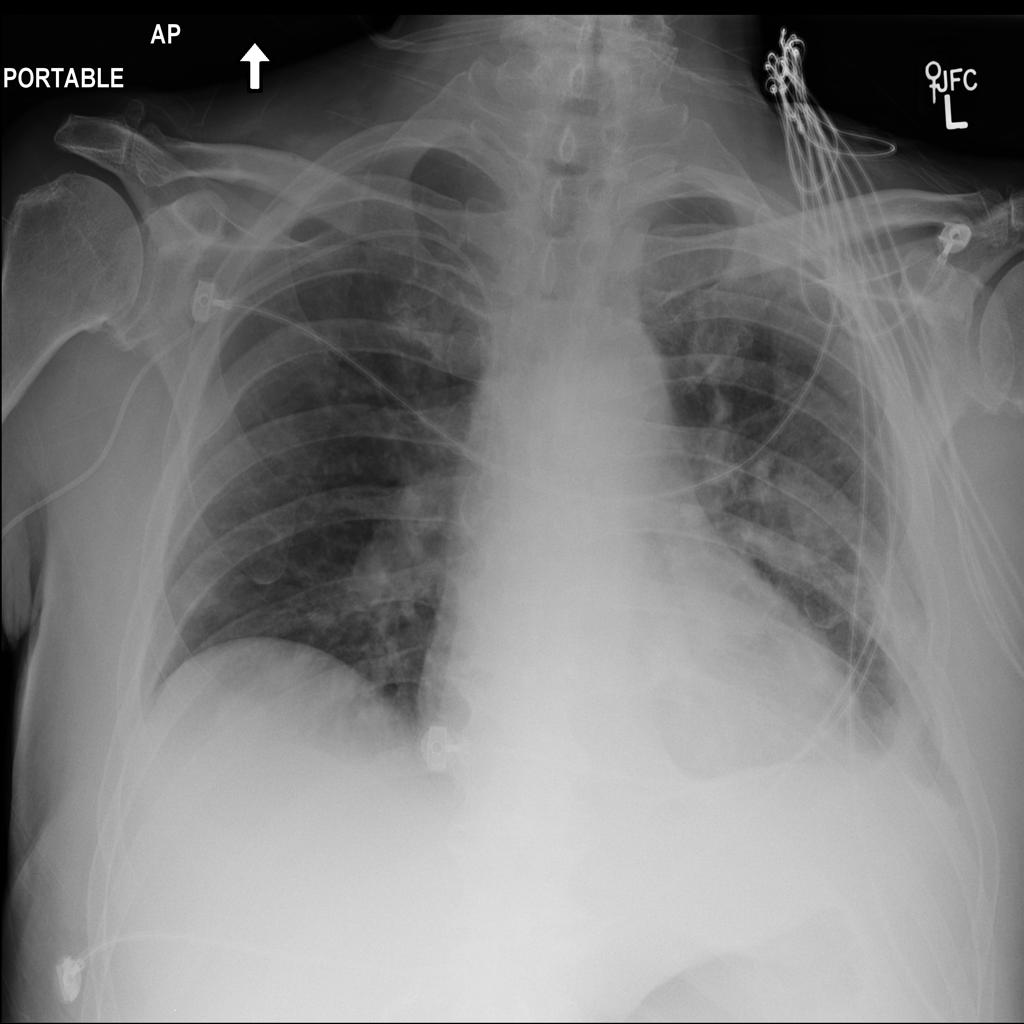nodule: (741, 451, 864, 590), (158, 555, 238, 629)
